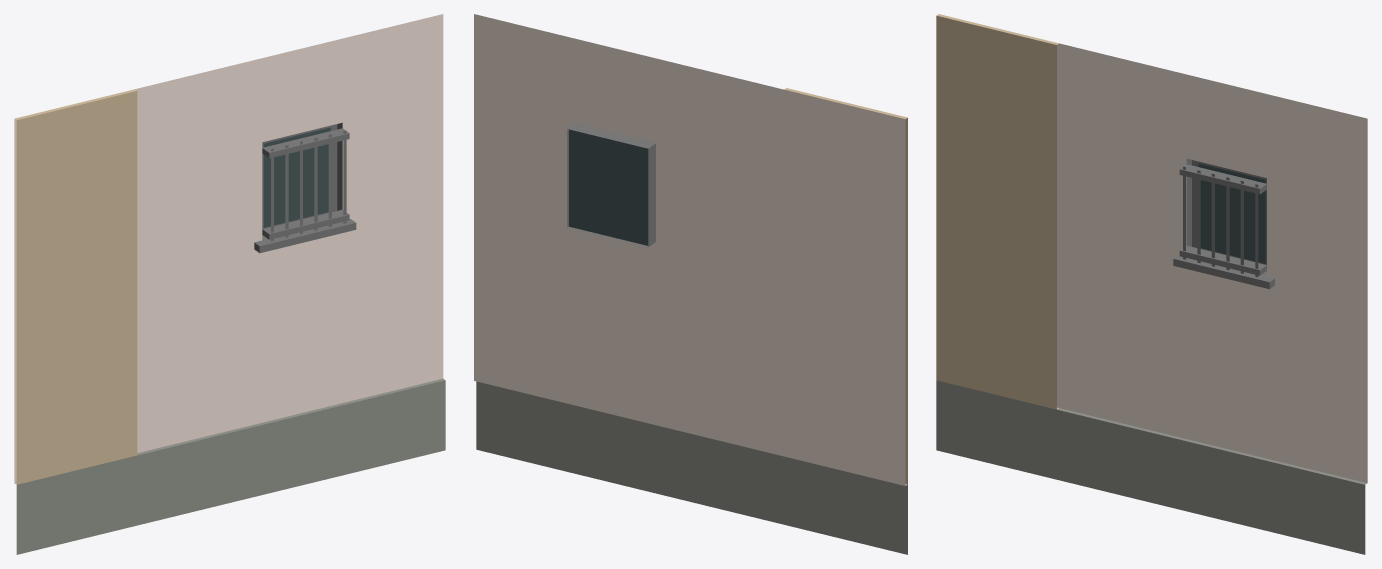
3 views of the same model, side by side, from view 1: azimuth 30°, elevation 25°; view 2: azimuth 150°, elevation 25°; view 3: azimuth 330°, elevation 25° (orthographic).
Visible parts, largest first — view 1: a2001/200/base-w4; view 2: a2001/200/base-w4; view 3: a2001/200/base-w4.
Part boxes in pixels (<box>): a2001/200/base-w4: <box>14,14,445,554</box>; a2001/200/base-w4: <box>474,14,907,554</box>; a2001/200/base-w4: <box>936,14,1367,554</box>.
Size of the model in its own units: 3.2 by 3.1 by 0.19.
